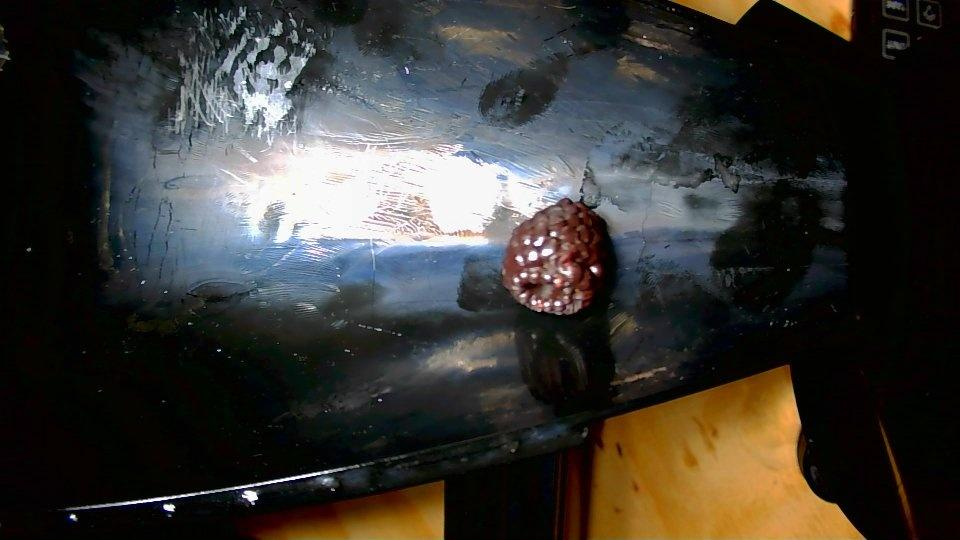berry: (502, 198, 610, 314)
